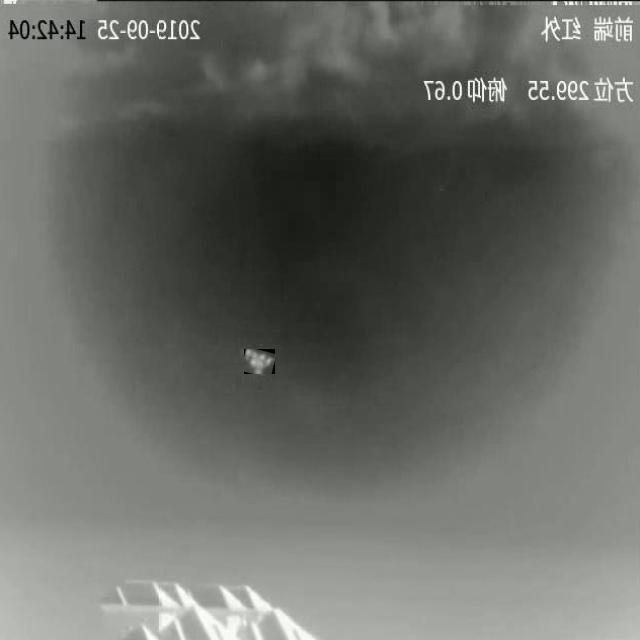drone: (245, 349, 275, 374)
